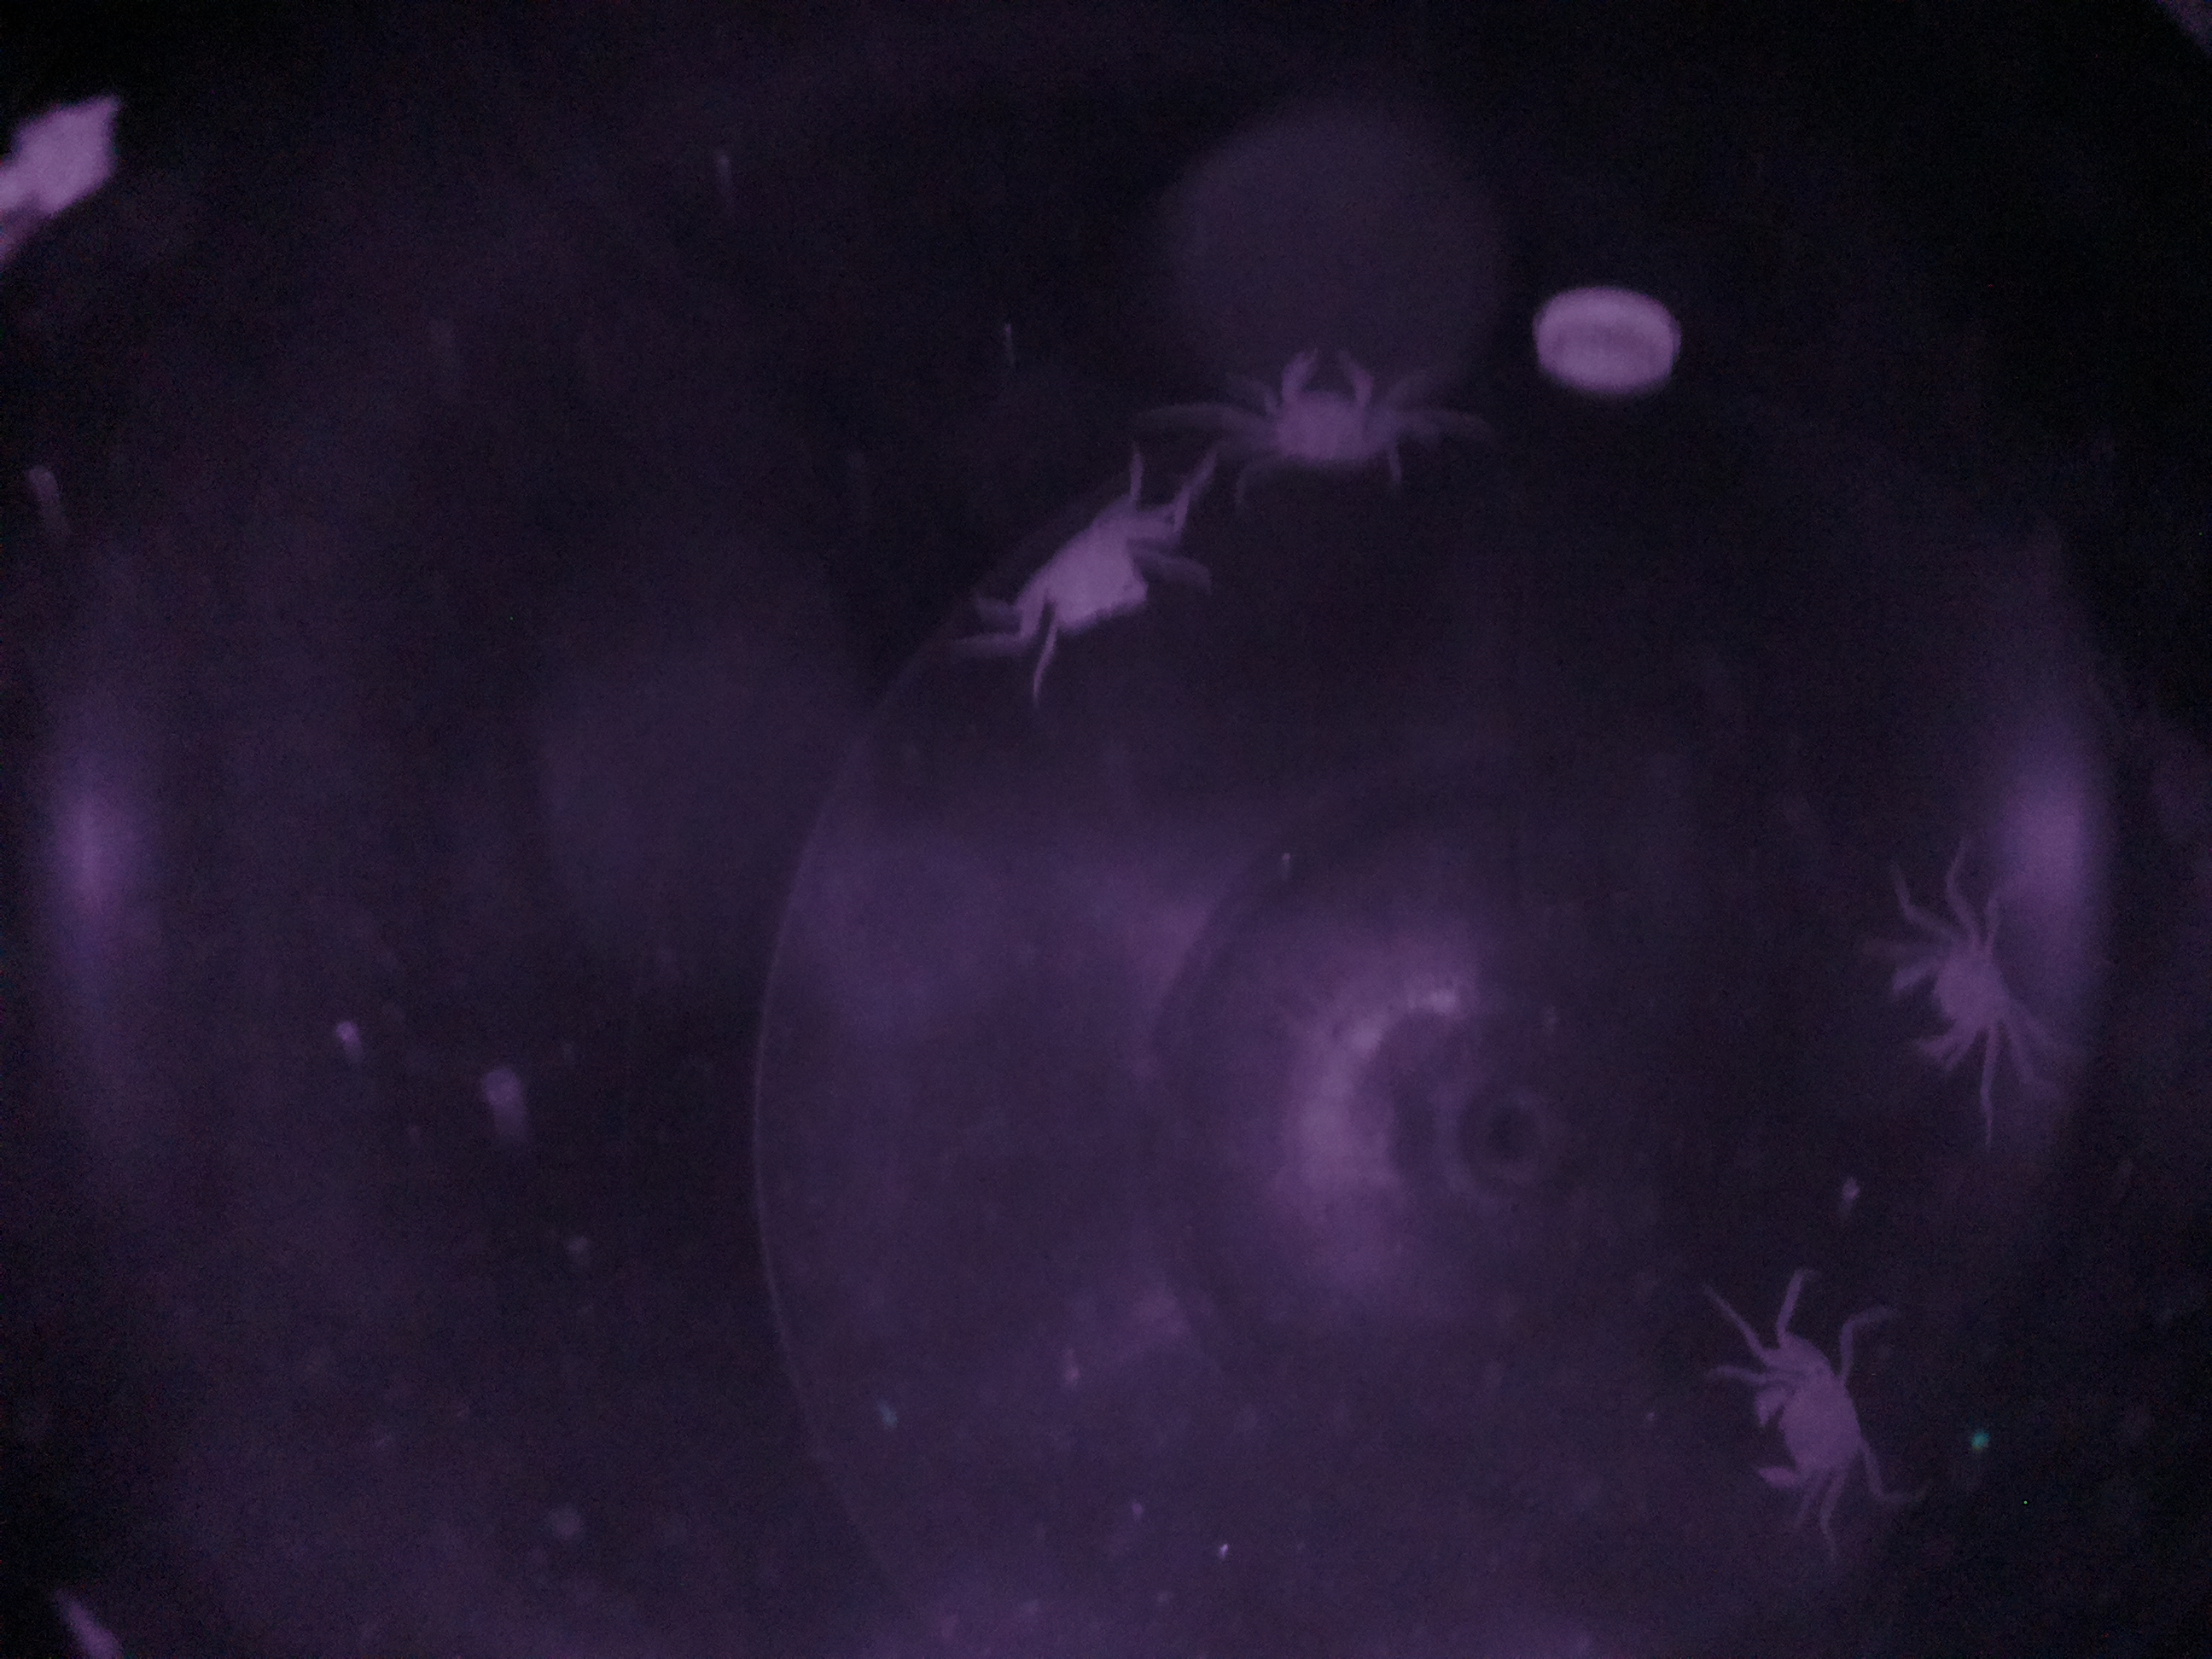Crab: (1702, 1288, 1904, 1528), (1865, 884, 2071, 1089)
